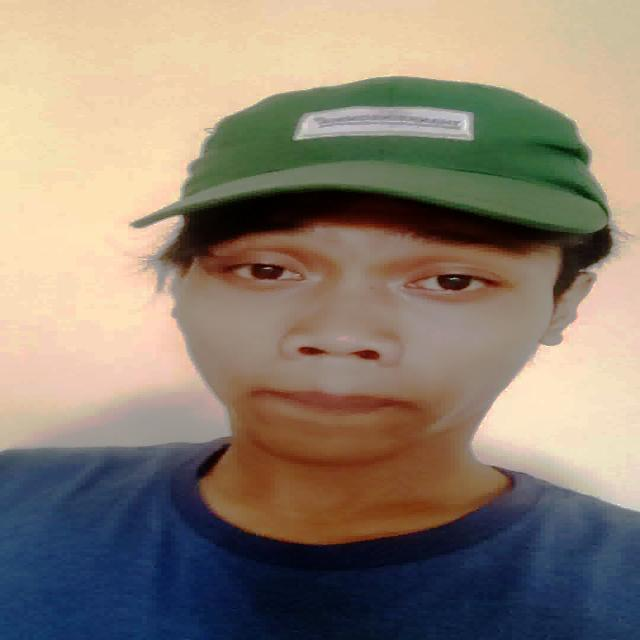TOPI: (140, 65, 624, 239)
